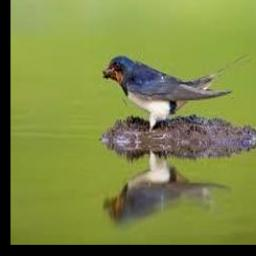Swallow: (103, 55, 251, 132)
